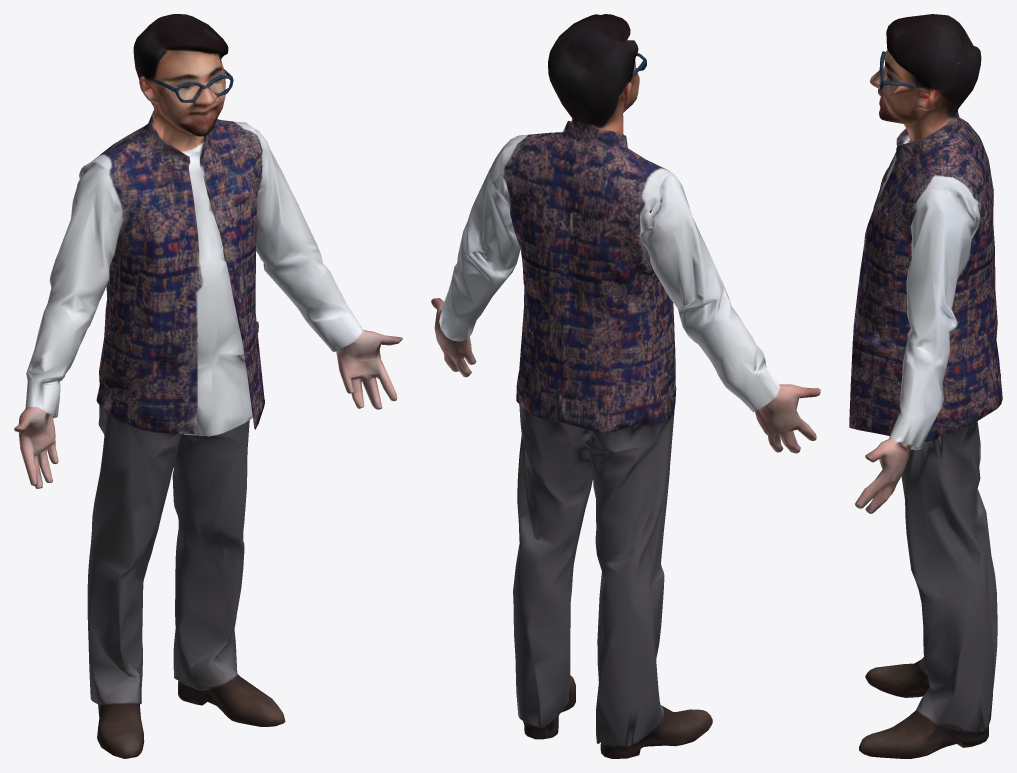
Rendered from char_player.glb.
3 renders of one model, left to right at view 1: azimuth 30°, elevation 25°; view 2: azimuth 150°, elevation 25°; view 3: azimuth 270°, elevation 25°, orthographic.
Visible parts, largest first — view 1: world; view 2: world; view 3: world.
Boxes of the visible parts, x1=… form: world: x1=14, y1=14, x2=402, y2=758; world: x1=431, y1=14, x2=820, y2=758; world: x1=849, y1=14, x2=1002, y2=758.
Bounding box in the file's own units: 0.5794 × 1 × 0.1974.
Materials: 1 (1 with a texture image).
